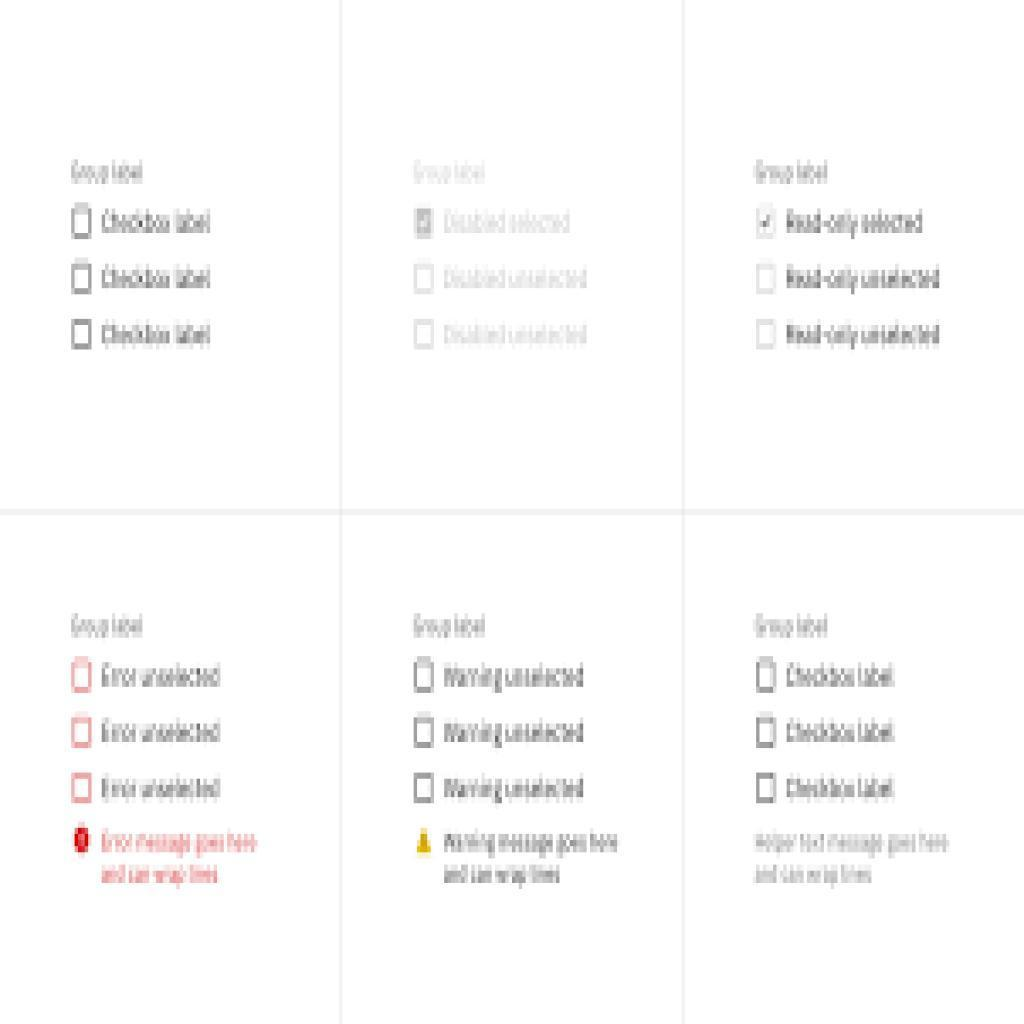checkbox: (755, 714, 780, 751), (71, 771, 95, 809), (755, 658, 778, 696), (755, 318, 780, 351), (74, 660, 96, 695), (72, 204, 93, 240), (71, 318, 93, 351), (756, 206, 777, 240), (414, 773, 436, 805), (755, 774, 777, 806), (414, 319, 435, 351), (414, 659, 435, 691), (71, 259, 90, 294), (756, 262, 778, 291), (72, 719, 94, 748), (414, 264, 435, 293), (415, 210, 435, 240), (416, 722, 434, 751)
